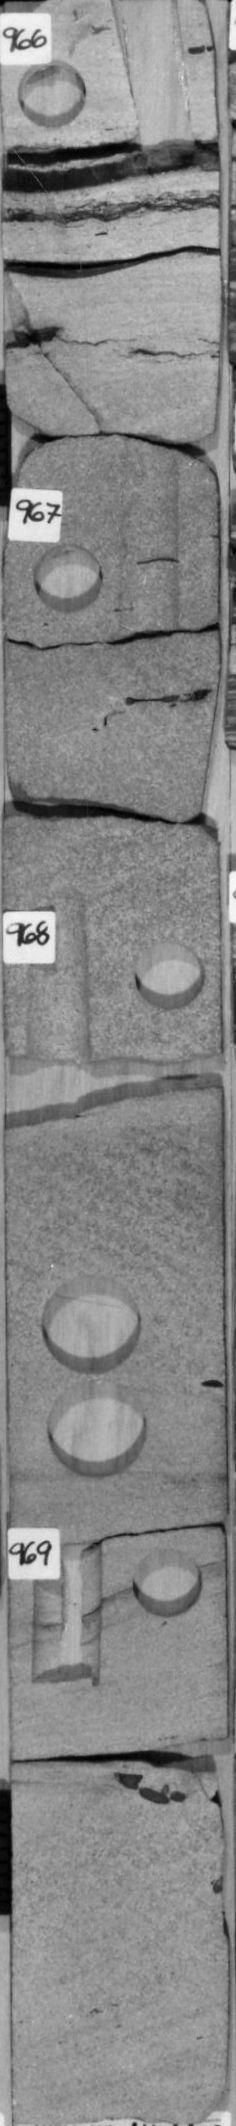hplug: (123, 1539, 210, 1622), (127, 931, 210, 1016), (28, 537, 110, 618), (18, 56, 91, 133)
scal: (33, 1272, 146, 1376), (47, 1379, 152, 1481)
vplug: (110, 1, 210, 151), (26, 1533, 113, 1687), (20, 892, 94, 1070), (156, 442, 222, 633)
